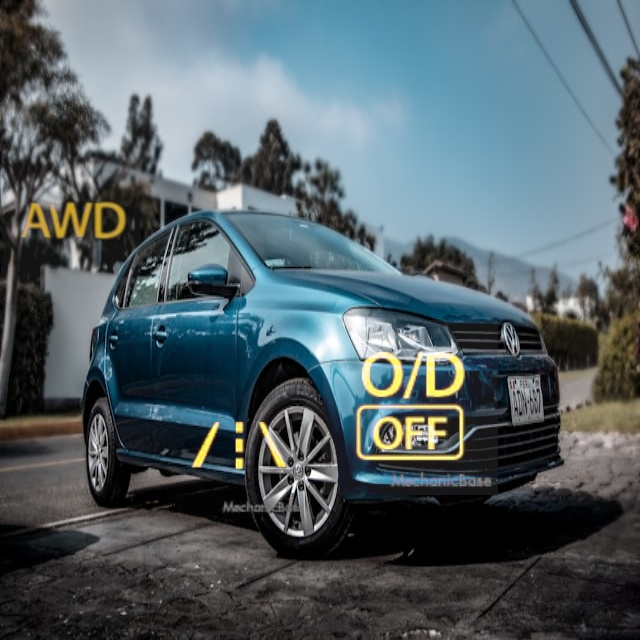symbol: (323, 320, 498, 495), (167, 376, 310, 519), (3, 153, 141, 291)
